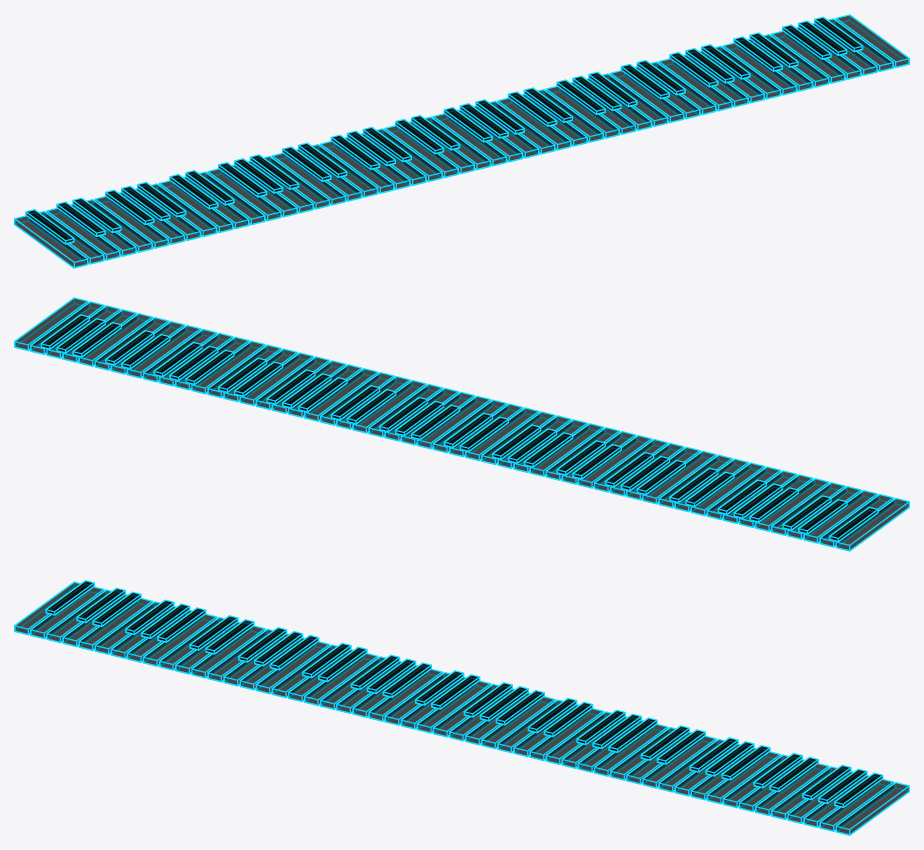
File: SNP.Piano.fbx
3 renders of one model, top to bottom at view 1: azimuth 30°, elevation 25°; view 2: azimuth 150°, elevation 25°; view 3: azimuth 330°, elevation 25°, orthographic.
Parts seen in each view (by area): view 1: Frames, Key.0, Key.87, Key.80, Key.68, Key.56, Key.44, Key.75, Key.20, Key.63, Key.32, Key.8 (+19 smaller); view 2: Frames, Key.0, Key.87, Key.80, Key.56, Key.68, Key.44, Key.75, Key.63, Key.20, Key.32, Key.8 (+5 smaller); view 3: Frames, Key.87, Key.19, Key.7, Key.14, Key.31, Key.26, Key.43, Key.67, Key.38, Key.55, Key.50 (+20 smaller).
Part boxes in pixels (<box>): Frames: <box>14,14,909,268</box>; Key.0: <box>15,216,86,266</box>; Key.87: <box>837,16,908,66</box>; Key.80: <box>772,32,843,81</box>; Key.68: <box>660,59,731,109</box>; Key.56: <box>547,87,618,136</box>; Key.44: <box>434,114,505,164</box>; Key.75: <box>724,43,795,93</box>; Key.20: <box>209,169,280,219</box>; Key.63: <box>611,71,682,121</box>; Key.32: <box>322,142,392,191</box>; Key.8: <box>96,197,167,246</box>; Frames: <box>14,297,909,551</box>; Key.0: <box>837,499,908,549</box>; Key.87: <box>15,299,86,349</box>; Key.80: <box>80,314,151,364</box>; Key.56: <box>305,369,376,419</box>; Key.68: <box>192,342,263,392</box>; Key.44: <box>418,397,489,447</box>; Key.75: <box>128,326,199,376</box>; Key.63: <box>241,354,312,404</box>; Key.20: <box>643,452,714,502</box>; Key.32: <box>531,424,601,474</box>; Key.8: <box>756,479,827,529</box>; Frames: <box>14,580,909,835</box>; Key.87: <box>837,783,908,833</box>; Key.19: <box>192,626,263,676</box>; Key.7: <box>80,599,150,649</box>; Key.14: <box>144,615,215,664</box>; Key.31: <box>305,654,376,703</box>; Key.26: <box>257,642,328,692</box>; Key.43: <box>418,681,489,731</box>; Key.67: <box>643,737,714,786</box>; Key.38: <box>370,670,441,719</box>; Key.55: <box>531,709,602,759</box>; Key.50: <box>482,697,553,747</box>.
Size of the model in its own units: 99.66 by 1.24 by 12.37.
